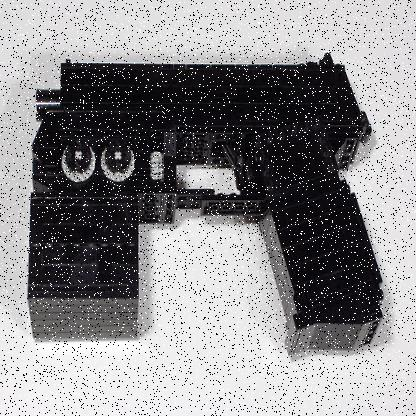pistol: (27, 52, 395, 357)
